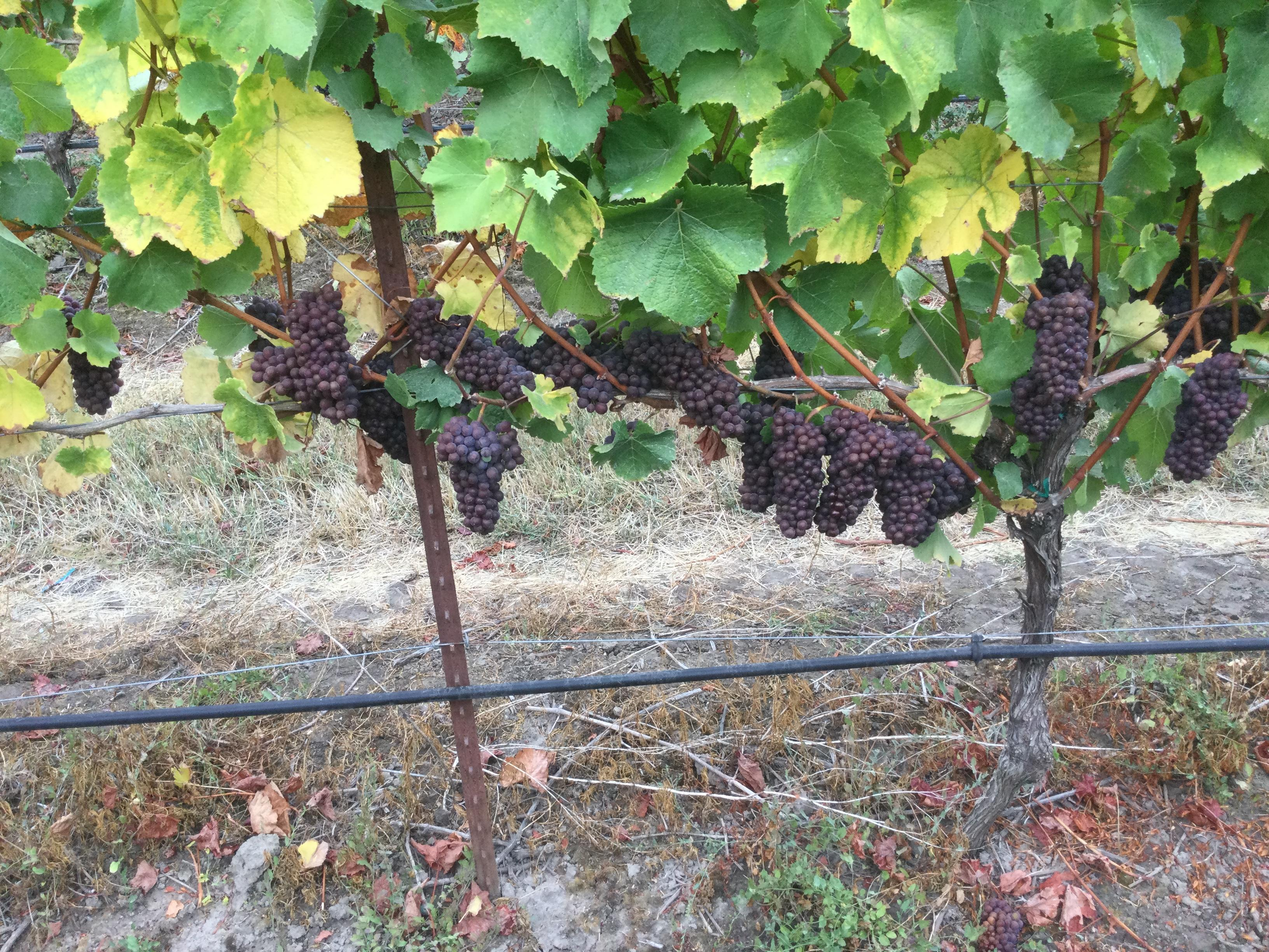leaf: (592, 184, 765, 326), (210, 74, 359, 234), (751, 89, 886, 235), (463, 37, 612, 159), (998, 30, 1122, 159), (906, 125, 1024, 258), (126, 126, 241, 260), (477, 0, 629, 100), (848, 0, 958, 130), (816, 177, 947, 273), (604, 103, 711, 200), (518, 152, 604, 271), (946, 0, 1044, 98), (629, 0, 756, 73), (422, 136, 517, 231), (179, 0, 315, 63), (789, 258, 902, 333), (677, 50, 785, 123), (0, 26, 72, 131), (373, 22, 456, 111), (100, 239, 198, 312), (1125, 368, 1186, 480), (878, 178, 949, 274), (61, 32, 130, 125), (98, 144, 156, 254), (1194, 103, 1268, 189), (754, 0, 841, 73), (521, 247, 610, 317), (1124, 0, 1192, 86), (1223, 7, 1268, 136), (590, 420, 675, 480), (748, 185, 811, 265), (907, 376, 991, 436), (213, 377, 285, 446), (1104, 131, 1175, 200), (311, 2, 376, 76), (973, 317, 1036, 392), (0, 158, 69, 226), (37, 434, 111, 497), (0, 226, 46, 324), (435, 275, 515, 331), (1099, 299, 1168, 358), (177, 61, 237, 126), (850, 69, 910, 132), (1118, 229, 1178, 290), (385, 361, 461, 407), (198, 240, 262, 294), (12, 296, 67, 353), (521, 374, 576, 430), (0, 366, 46, 432), (197, 306, 256, 356), (77, 0, 140, 46), (1211, 170, 1268, 220), (180, 344, 227, 404), (69, 310, 119, 366), (349, 102, 404, 151), (1045, 0, 1118, 32), (773, 301, 820, 350), (392, 162, 432, 219), (1177, 73, 1227, 115), (1099, 436, 1137, 490), (912, 524, 962, 565), (1229, 394, 1268, 446), (327, 68, 373, 112), (138, 0, 180, 46), (53, 444, 111, 477), (413, 401, 457, 442), (40, 360, 74, 413), (0, 71, 25, 143), (520, 167, 563, 205), (1006, 245, 1041, 286), (524, 417, 574, 443), (0, 431, 42, 459), (993, 460, 1023, 499), (495, 189, 523, 227), (1230, 332, 1268, 354), (30, 351, 57, 379), (0, 148, 12, 161), (68, 455, 77, 462), (514, 170, 519, 179), (97, 456, 101, 466), (514, 181, 521, 185), (820, 237, 822, 247), (74, 441, 79, 443), (755, 180, 758, 183), (13, 144, 15, 148), (488, 222, 496, 223), (521, 187, 523, 190), (284, 229, 288, 230), (0, 4, 2, 5), (1245, 244, 1245, 247), (447, 275, 447, 276), (337, 200, 338, 200), (412, 127, 417, 127)
